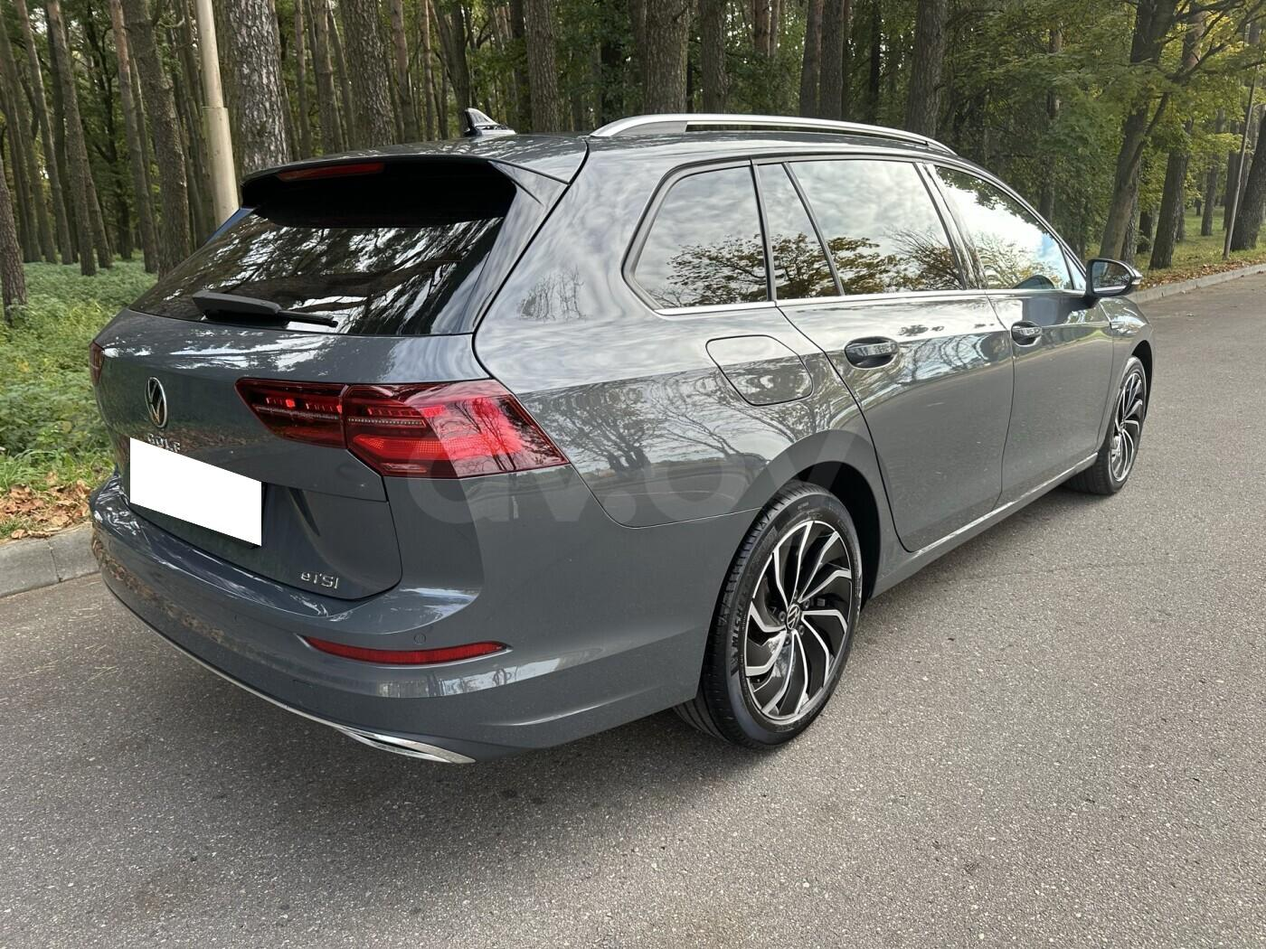Golf_2019: (80, 120, 1155, 773)
